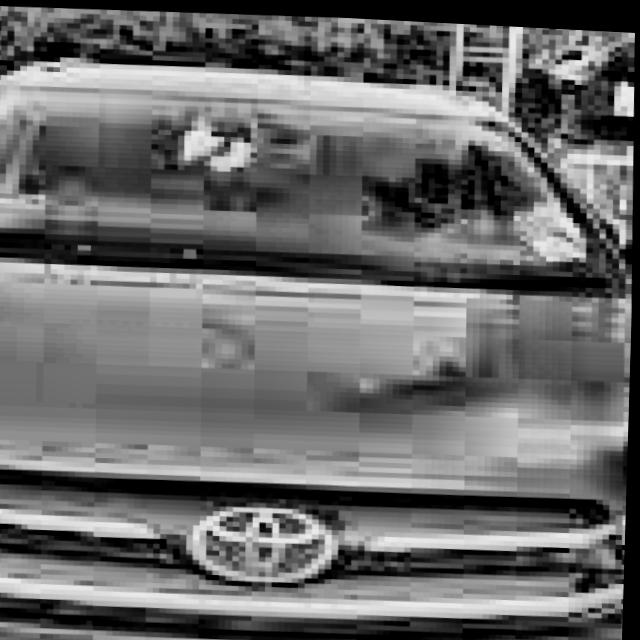light_vehicle: (0, 43, 639, 640)
